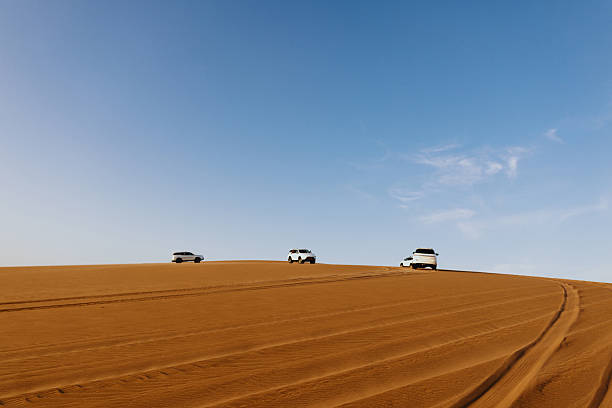vehicle_track: (0, 272, 403, 312), (450, 283, 578, 407)
